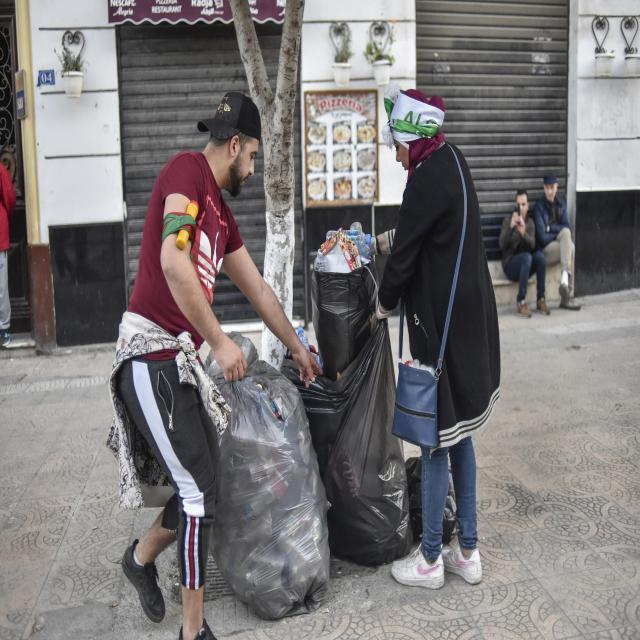trash: (196, 226, 410, 621)
